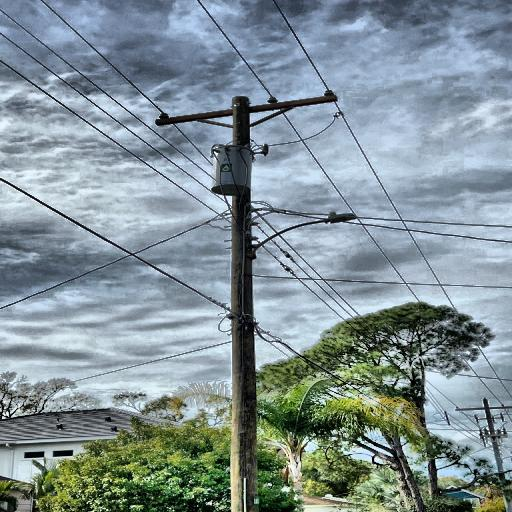insulator: (158, 112, 169, 120), (267, 97, 278, 104), (324, 90, 334, 97)
pole: (218, 86, 274, 512)
street light: (249, 211, 358, 262)
transformer: (210, 144, 256, 196)
